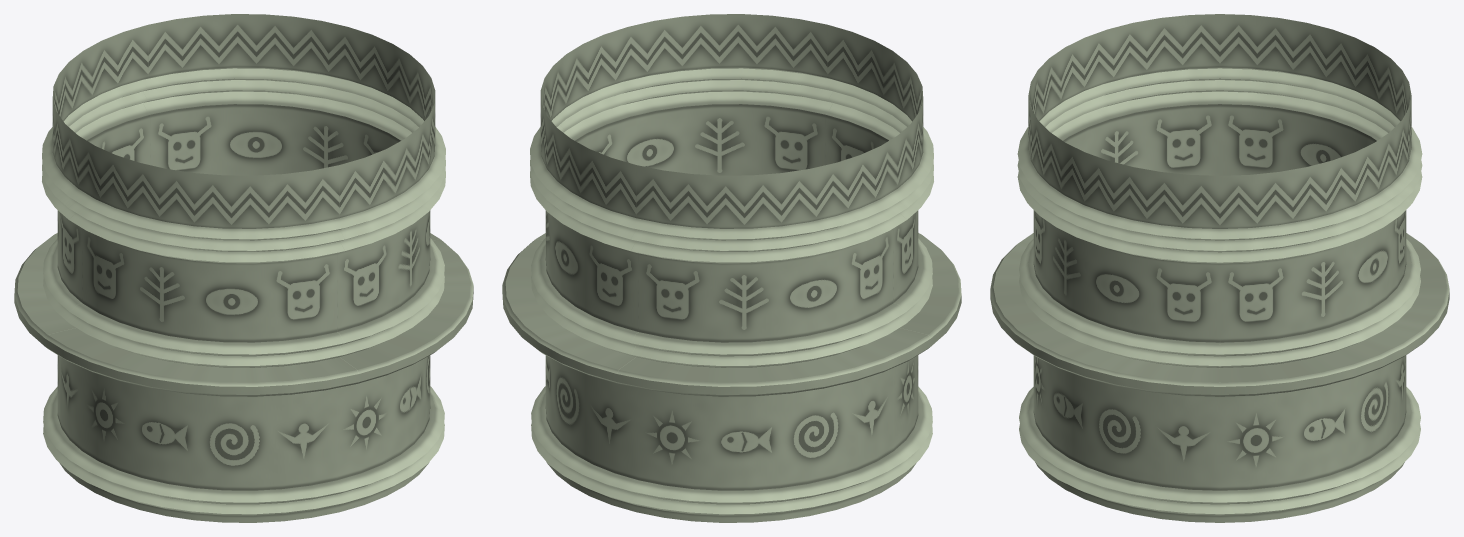
The model's file is Tower_Segment_Relief.fbx.
3 views of the same model, side by side, from view 1: azimuth 30°, elevation 25°; view 2: azimuth 150°, elevation 25°; view 3: azimuth 270°, elevation 25° (orthographic).
Visible parts, largest first — view 1: Tower_Segment_Relief; view 2: Tower_Segment_Relief; view 3: Tower_Segment_Relief.
Part boxes in pixels (x1,y1,x2,y2): Tower_Segment_Relief: (14, 14, 473, 522); Tower_Segment_Relief: (502, 14, 961, 522); Tower_Segment_Relief: (990, 14, 1449, 522).
Size of the model in its own units: 3.6 by 3 by 3.6.
1 material, 1 textured.
